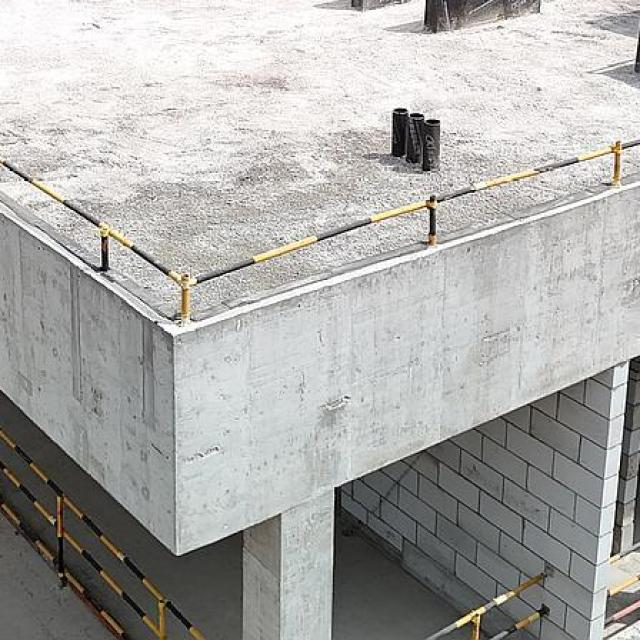edge_guardrail: (0, 135, 640, 322), (0, 427, 207, 640), (422, 570, 552, 640), (604, 541, 640, 628)
